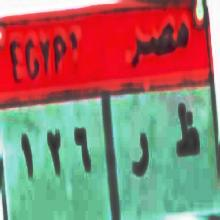1: (20, 128, 36, 178)
2: (47, 124, 63, 176)
6: (73, 119, 93, 179)
Thaa: (174, 97, 198, 157)
raa: (131, 130, 150, 178)
